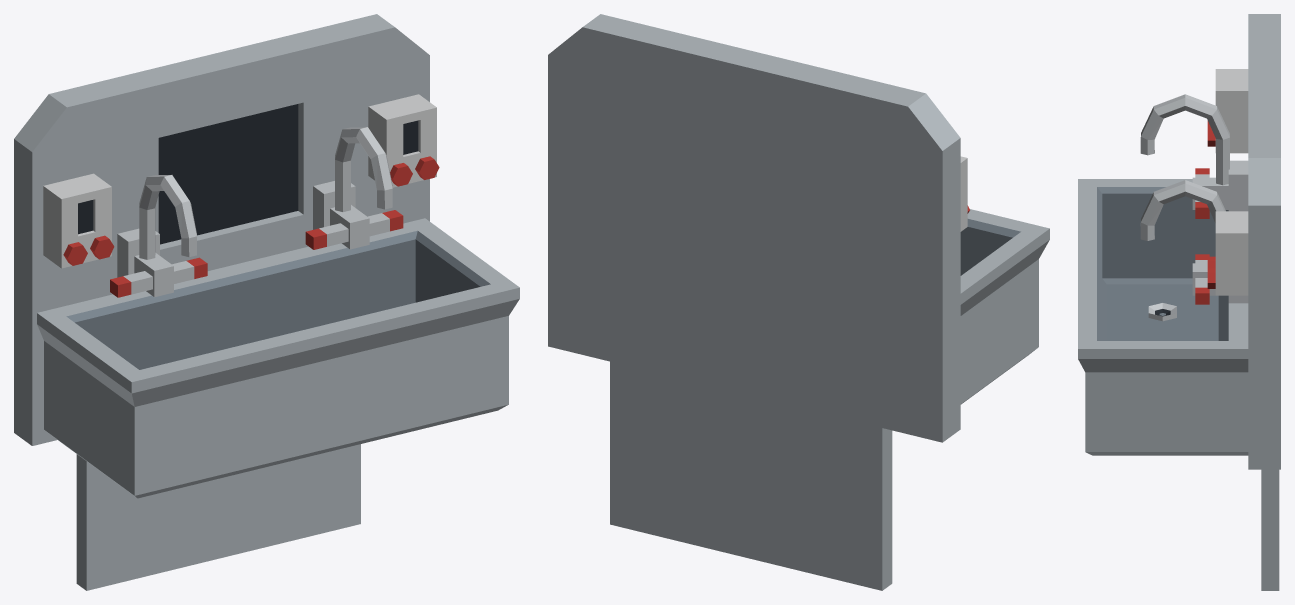
Rendered from scrub-sink-station-3cefec.glb.
The picture shows the model from 3 angles, left to right: view 1: azimuth 30°, elevation 25°; view 2: azimuth 150°, elevation 25°; view 3: azimuth 270°, elevation 25°; orthographic projection. The views are drawn at different scales.
Visible parts, largest first — view 1: scrub-sink-station, dispenser-l, dispenser-r, handle-2-l, handle-1-l, handle-2-r, handle-1-r; view 2: scrub-sink-station; view 3: scrub-sink-station, dispenser-r, dispenser-l, handle-2-r.
Boxes of the visible parts, bbox=[...] form: scrub-sink-station: bbox=[14, 14, 519, 590]; dispenser-l: bbox=[43, 173, 114, 268]; dispenser-r: bbox=[368, 94, 439, 187]; handle-2-l: bbox=[305, 223, 348, 249]; handle-1-l: bbox=[110, 271, 152, 297]; handle-2-r: bbox=[368, 210, 403, 236]; handle-1-r: bbox=[172, 257, 207, 283]; scrub-sink-station: bbox=[548, 14, 1049, 590]; scrub-sink-station: bbox=[1078, 14, 1280, 590]; dispenser-r: bbox=[1207, 211, 1248, 295]; dispenser-l: bbox=[1207, 69, 1248, 153]; handle-2-r: bbox=[1195, 278, 1209, 304].
Bounding box in the file's own units: 1.26 × 1.5 × 0.62.
